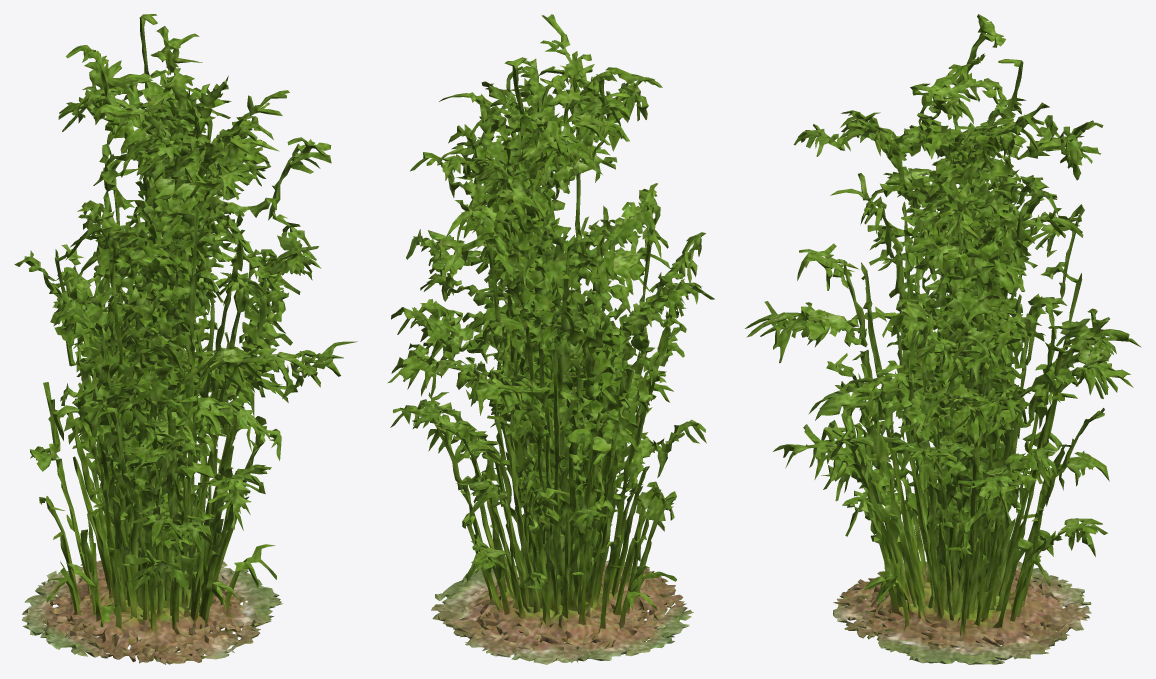
The model's file is r7-fargesia-bamboo.glb.
3 renders of one model, left to right at view 1: azimuth 30°, elevation 25°; view 2: azimuth 150°, elevation 25°; view 3: azimuth 270°, elevation 25°, orthographic.
Parts seen in each view (by area): view 1: geometry_0; view 2: geometry_0; view 3: geometry_0.
Part boxes in pixels (bbox=[...]): geometry_0: bbox=[14, 14, 357, 664]; geometry_0: bbox=[387, 14, 714, 664]; geometry_0: bbox=[745, 14, 1141, 664].
Size of the model in its own units: 1.39 by 2.5 by 1.59.
1 material, 1 textured.
